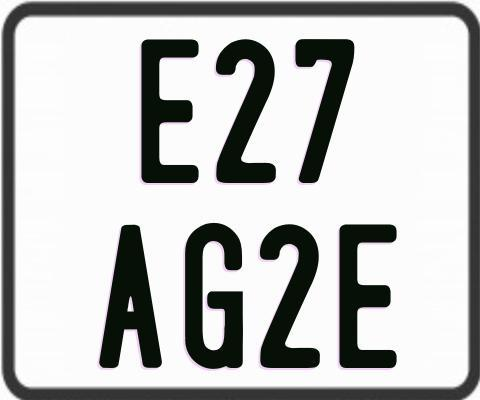2: (215, 39, 275, 189), (259, 224, 320, 369)
7: (294, 36, 358, 183)
A: (99, 223, 167, 369)
E: (138, 37, 200, 186), (336, 223, 394, 371)
G: (182, 223, 241, 371)
